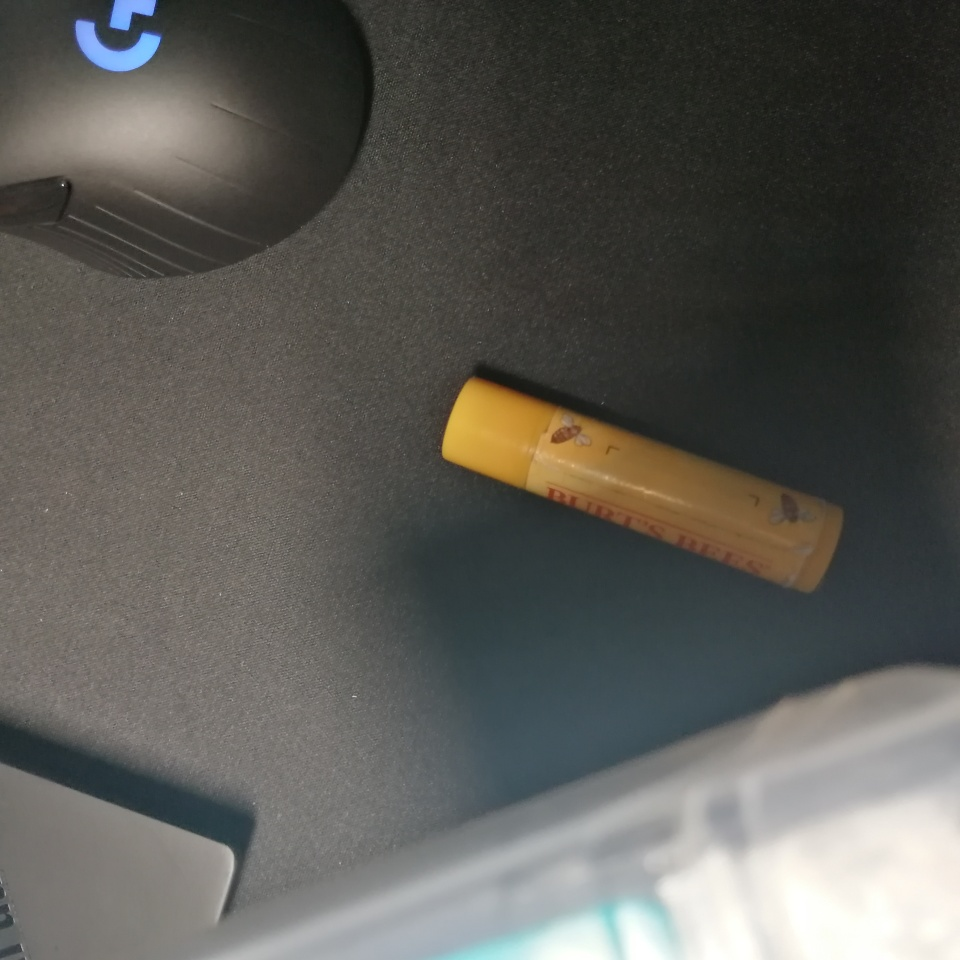chapstick: (441, 374, 846, 596)
